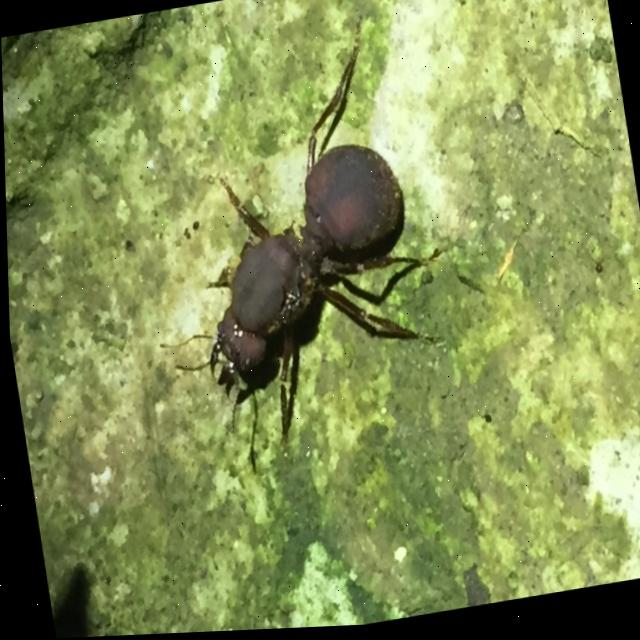Alive-Female-Dealate: (114, 8, 471, 490)
